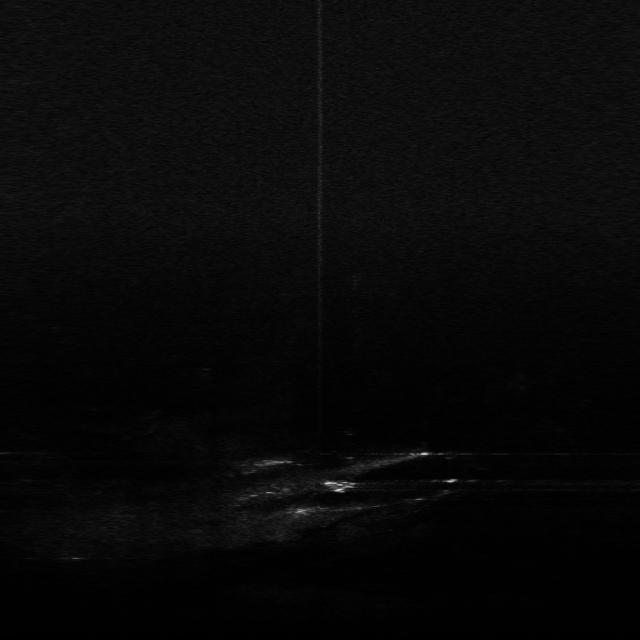rov: (323, 475, 362, 497)
